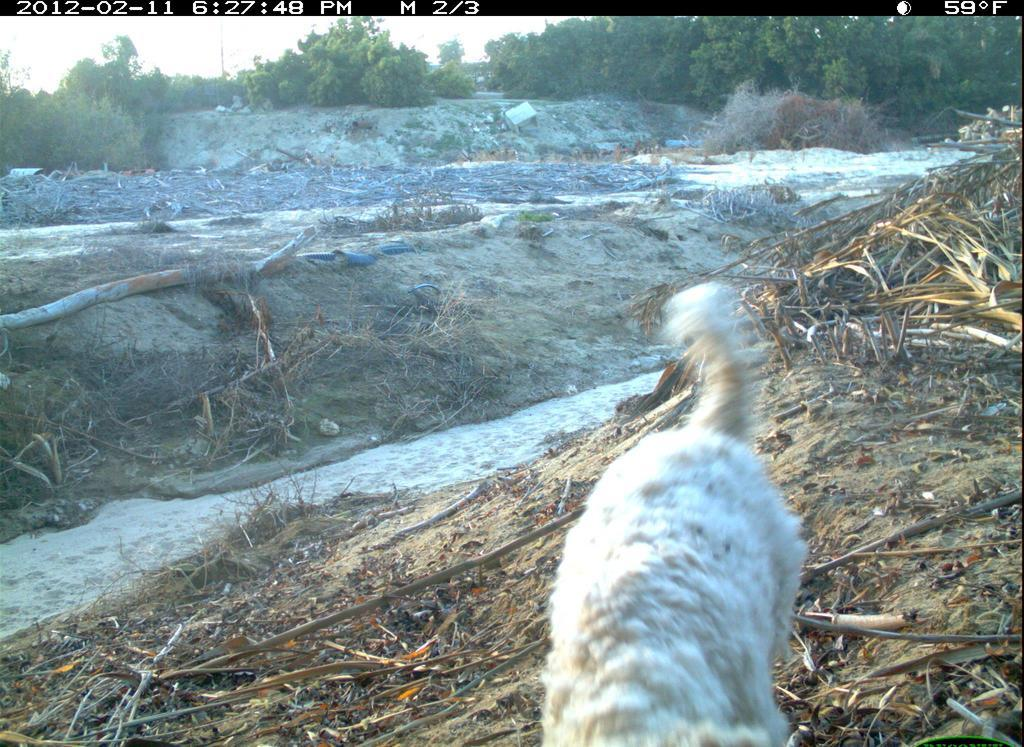dog: (534, 277, 820, 747)
